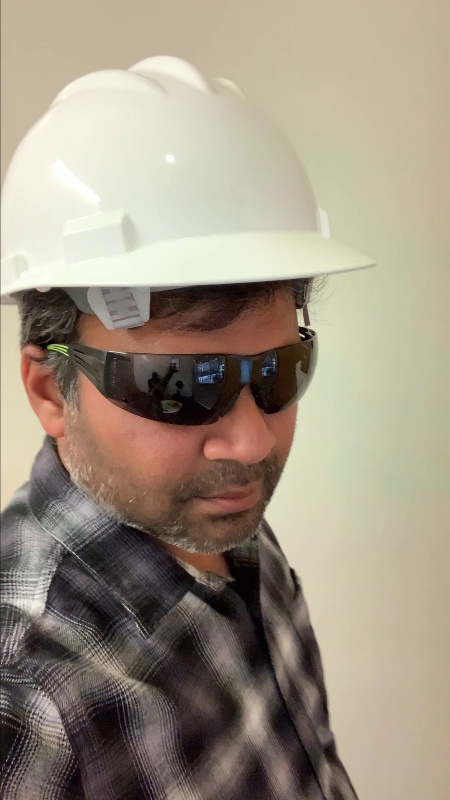glasses: (60, 338, 333, 411)
helmet: (5, 54, 355, 270)
